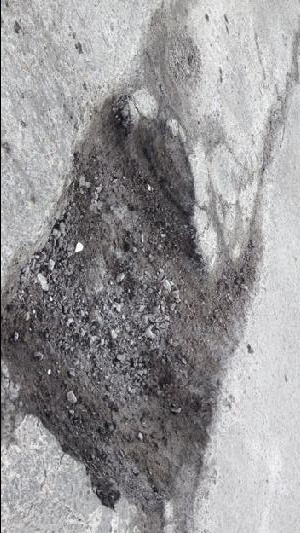pothole: (2, 92, 262, 516)
